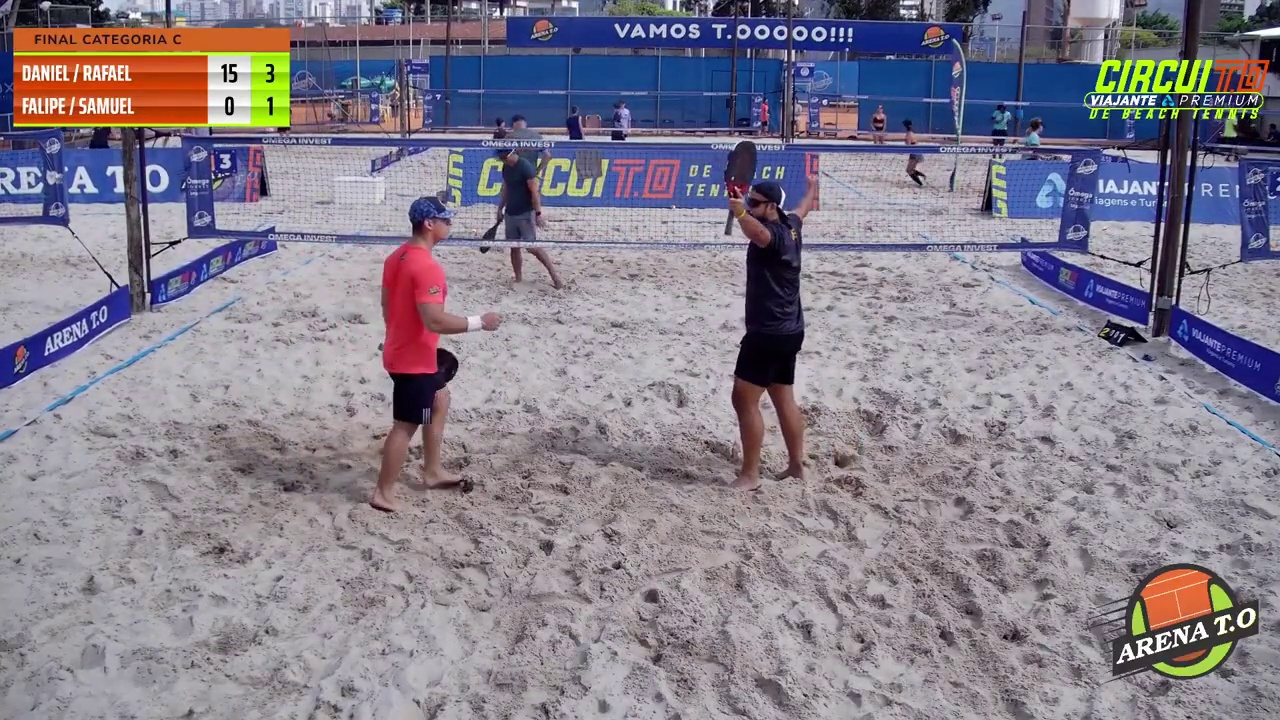court_line: (439, 0, 583, 506)
